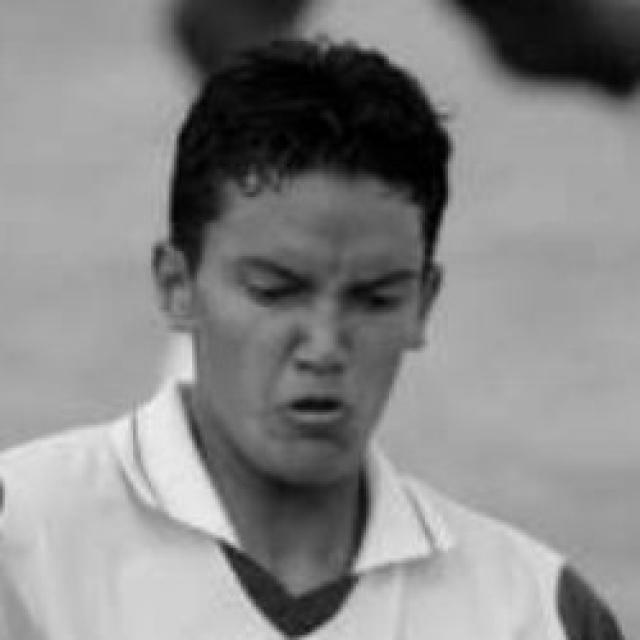real: (192, 174, 422, 484), (231, 260, 412, 316)
